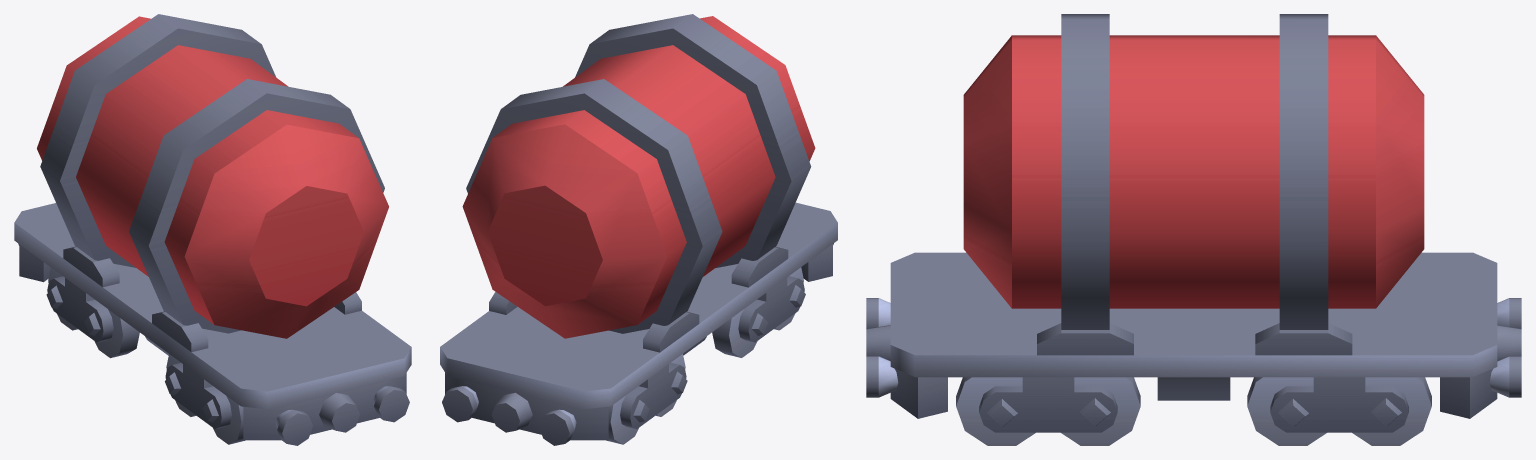
Rendered from tankvagn.glb.
3 views of the same model, side by side, from view 1: azimuth 30°, elevation 25°; view 2: azimuth 150°, elevation 25°; view 3: azimuth 270°, elevation 25° (orthographic). The views are drawn at different scales.
Parts seen in each view (by area): view 1: train-carriage-tank, wheels-back, wheels-front; view 2: train-carriage-tank, wheels-front, wheels-back; view 3: train-carriage-tank, wheels-front, wheels-back.
Part boxes in pixels (x1=…): train-carriage-tank: x1=14, y1=14, x2=411, y2=445; wheels-back: x1=46, y1=267, x2=139, y2=358; wheels-front: x1=165, y1=354, x2=245, y2=444; train-carriage-tank: x1=440, y1=14, x2=837, y2=445; wheels-front: x1=712, y1=267, x2=805, y2=357; wheels-back: x1=606, y1=354, x2=687, y2=444; train-carriage-tank: x1=866, y1=14, x2=1521, y2=418; wheels-front: x1=956, y1=377, x2=1140, y2=445; wheels-back: x1=1247, y1=377, x2=1431, y2=445.
Bounding box in the file's own units: 1.39 × 1.75 × 2.7.
Materials: 1 (1 with a texture image).
